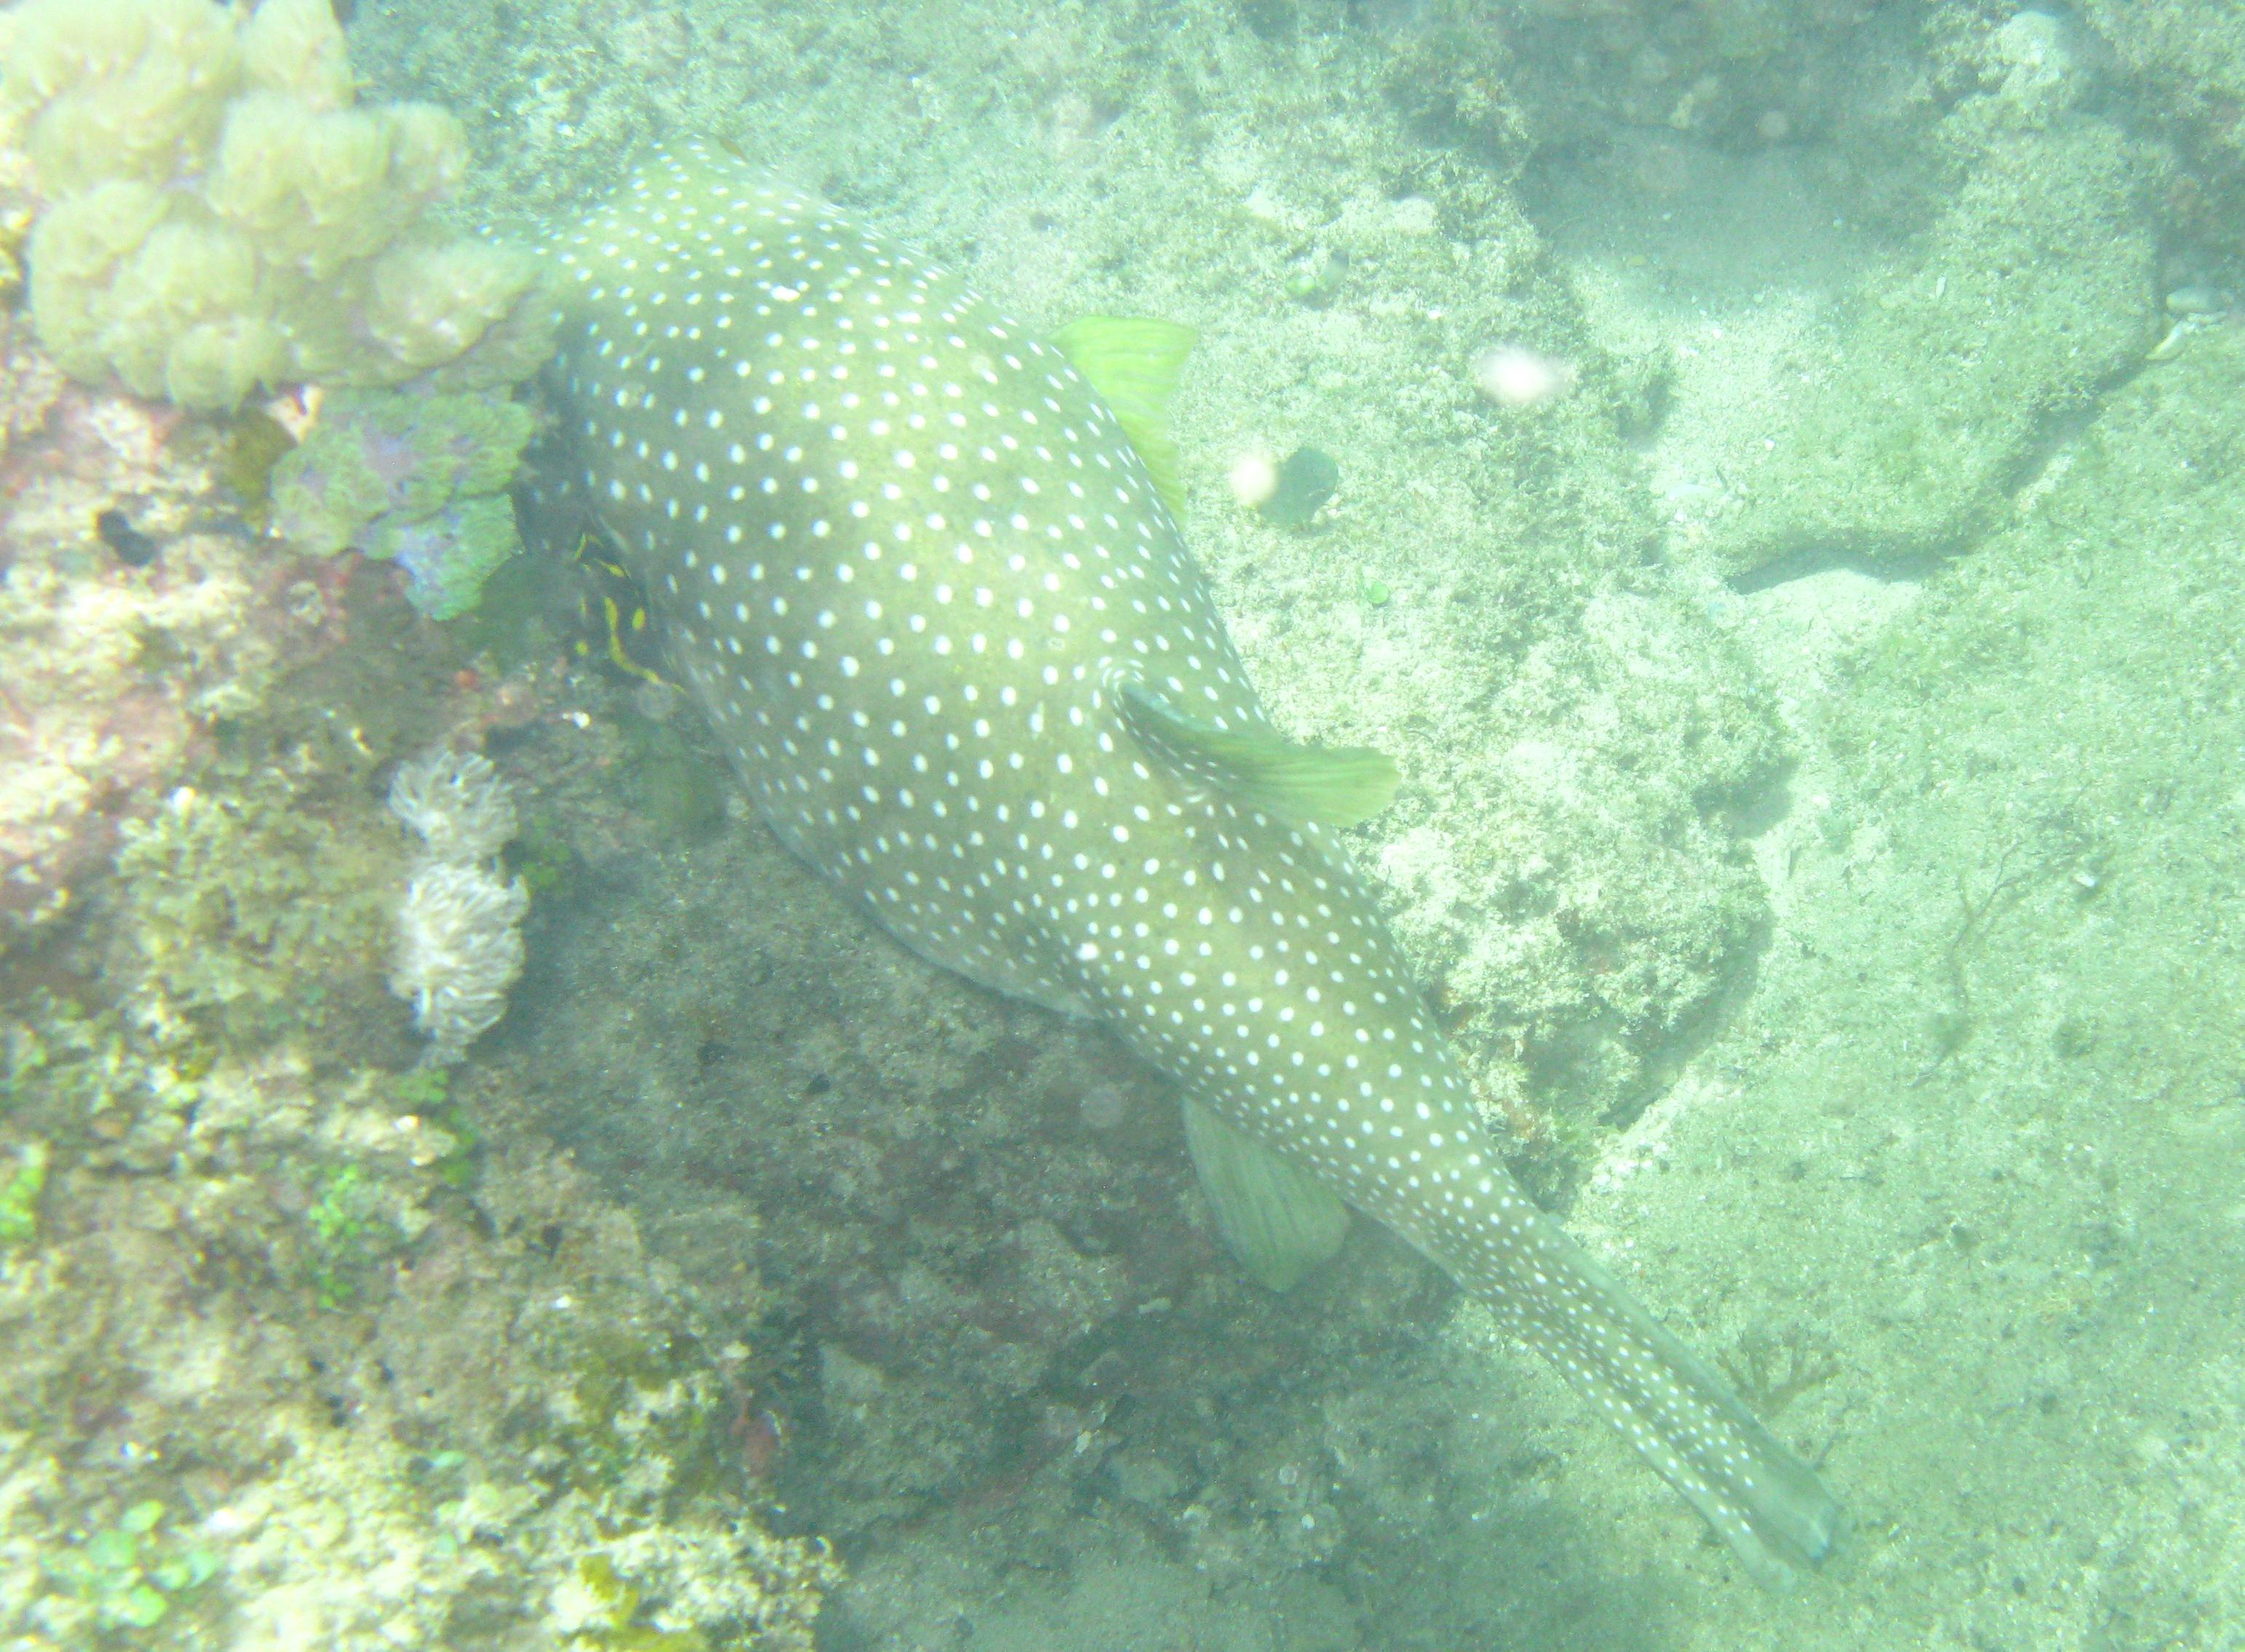Fish: (361, 66, 2048, 1614)
